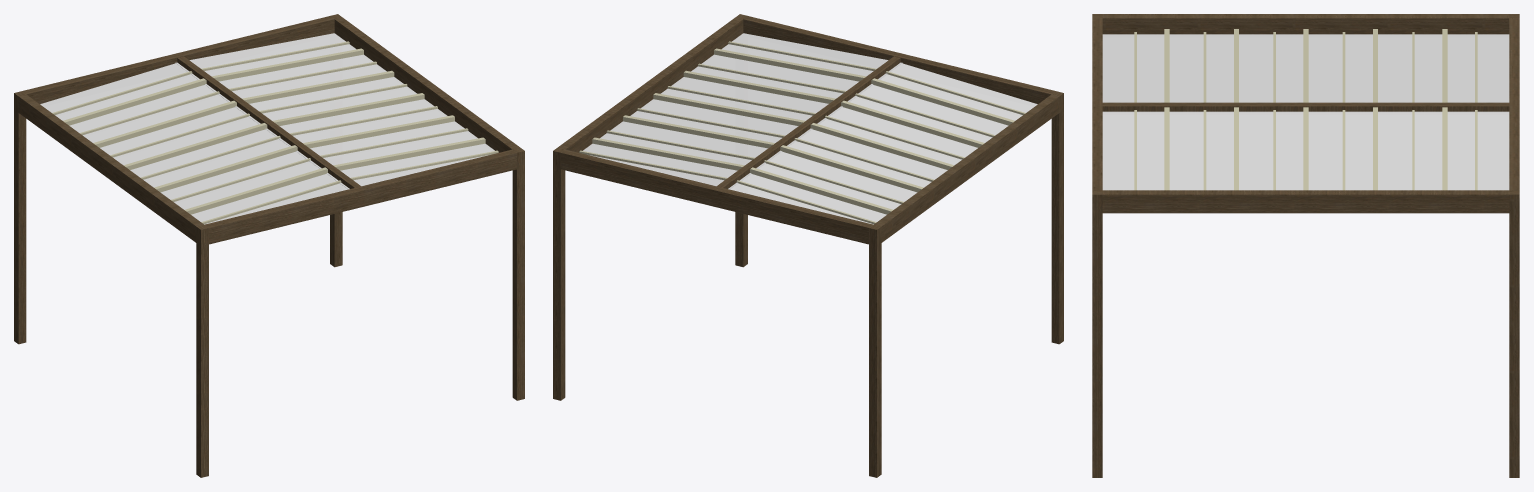
The model's file is hyr-double_h30-w40-l40_brownebony.fbx.
The picture shows the model from 3 angles, left to right: view 1: azimuth 30°, elevation 25°; view 2: azimuth 150°, elevation 25°; view 3: azimuth 270°, elevation 25°; orthographic projection. The views are drawn at different scales.
Parts seen in each view (by area): view 1: hyr-double_h30-w40-l40_brownebony; view 2: hyr-double_h30-w40-l40_brownebony; view 3: hyr-double_h30-w40-l40_brownebony.
Boxes of the visible parts, x1,y1,x2,y2 form: hyr-double_h30-w40-l40_brownebony: (14, 14, 524, 477); hyr-double_h30-w40-l40_brownebony: (553, 14, 1063, 477); hyr-double_h30-w40-l40_brownebony: (1092, 14, 1519, 477).
Size of the model in its own units: 410 by 300 by 410.
3 materials, 2 textured.
